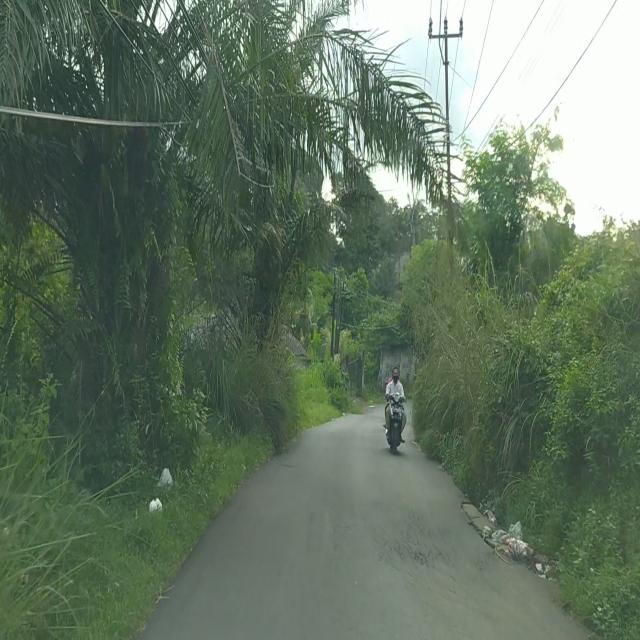Drain Hole: (374, 524, 456, 584)
